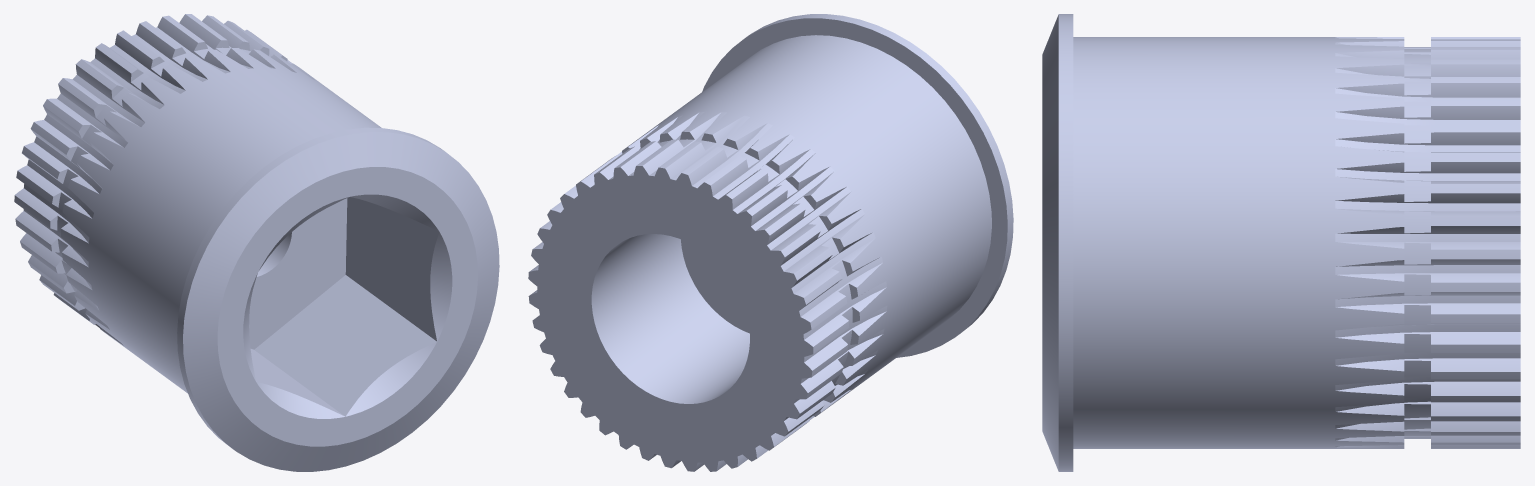
The model's file is Cut_Extrude1.obj.
3 renders of one model, left to right at view 1: azimuth 30°, elevation 25°; view 2: azimuth 150°, elevation 25°; view 3: azimuth 270°, elevation 25°, orthographic. The views are drawn at different scales.
Visible parts, largest first — view 1: mesh23155, mesh22720, mesh22722, mesh22712, mesh22721, mesh22717, mesh22714, mesh22729, mesh22724, mesh22713, mesh22710, mesh22711 (+8 smaller); view 2: mesh23142, mesh23155, mesh22727, mesh22728, mesh22729, mesh22725, mesh22724, mesh22726, mesh22723, mesh22939, mesh23053; view 3: mesh23155, mesh22729, mesh22724, mesh22722, mesh22723, mesh22721, mesh22788, mesh22797, mesh23141, mesh22776, mesh23119, mesh23130 (+56 smaller).
Boxes of the visible parts, box(x1,y1,x2,y2) form: mesh23155: box(61, 48, 381, 317); mesh22720: box(217, 167, 477, 446); mesh22722: box(183, 132, 499, 336); mesh22712: box(254, 275, 436, 416); mesh22721: box(183, 267, 499, 471); mesh22717: box(345, 197, 439, 341); mesh22714: box(249, 198, 347, 349); mesh22729: box(61, 233, 187, 393); mesh22724: box(177, 127, 444, 336); mesh22713: box(346, 342, 436, 416); mesh22710: box(250, 349, 343, 415); mesh22711: box(256, 382, 344, 418); mesh23142: box(528, 166, 813, 471); mesh23155: box(623, 35, 991, 315); mesh22727: box(591, 234, 749, 401); mesh22728: box(702, 18, 1007, 357); mesh22729: box(818, 220, 991, 414); mesh22725: box(681, 239, 749, 333); mesh22724: box(746, 14, 1013, 222); mesh22726: box(671, 344, 749, 403); mesh22723: box(956, 219, 1013, 336); mesh22939: box(804, 338, 846, 370); mesh23053: box(665, 144, 704, 178); mesh23155: box(1073, 37, 1404, 333); mesh22729: box(1073, 334, 1404, 448); mesh22724: box(1058, 14, 1073, 344); mesh22722: box(1042, 15, 1058, 343); mesh22723: box(1058, 344, 1073, 471); mesh22721: box(1042, 327, 1058, 470); mesh22788: box(1435, 381, 1520, 395); mesh22797: box(1435, 402, 1520, 416); mesh23141: box(1435, 83, 1520, 97); mesh22776: box(1435, 358, 1520, 371); mesh23119: box(1435, 132, 1520, 145); mesh23130: box(1435, 106, 1520, 119).
Size of the model in its own units: 0.0222 by 0.0222 by 0.0232.
